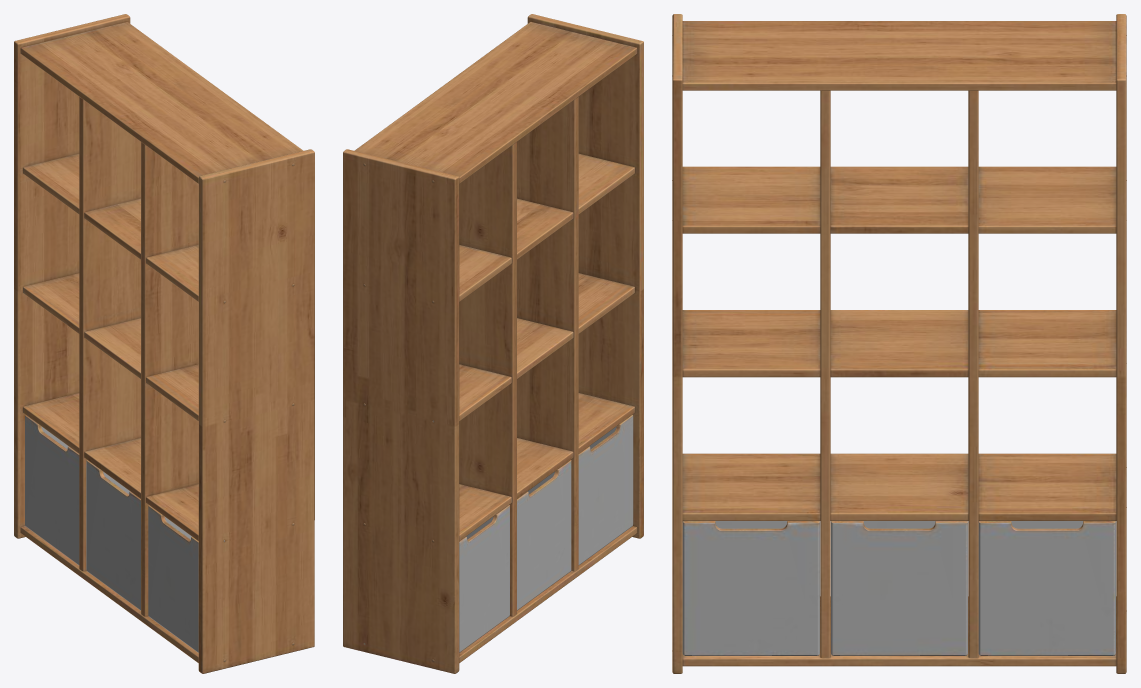
File: wooden_display_shelves_01.gltf
3 views of the same model, side by side, from view 1: azimuth 30°, elevation 25°; view 2: azimuth 150°, elevation 25°; view 3: azimuth 270°, elevation 25° (orthographic). The views are drawn at different scales.
Parts seen in each view (by area): view 1: wooden_display_shelves_01; view 2: wooden_display_shelves_01; view 3: wooden_display_shelves_01.
Boxes of the visible parts, x1,y1,x2,y2 form: wooden_display_shelves_01: [14, 14, 314, 673]; wooden_display_shelves_01: [343, 14, 643, 673]; wooden_display_shelves_01: [672, 14, 1126, 673].
Bounding box in the file's own units: 0.3714 × 1.56 × 1.08.
1 material, 1 textured.
